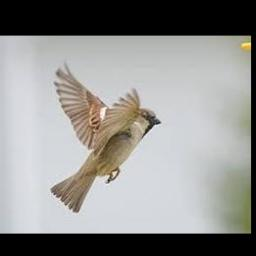Sparrow: (51, 61, 162, 213)
